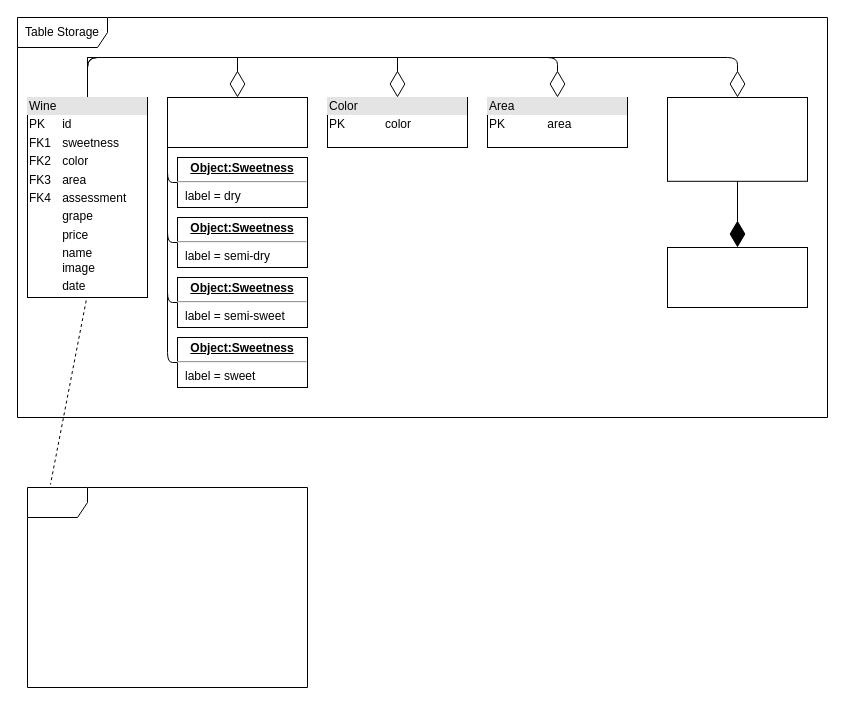
Image size: 845x705. Some labels were removed from this diagram. Each missing label, with the centre of its shape:
Assessment PK, FK wine PK, FK user assessment: (737,138)
Blob Storage: (167,587)
Sweetness PK label: (237,122)
User PK name pw: (737,277)
